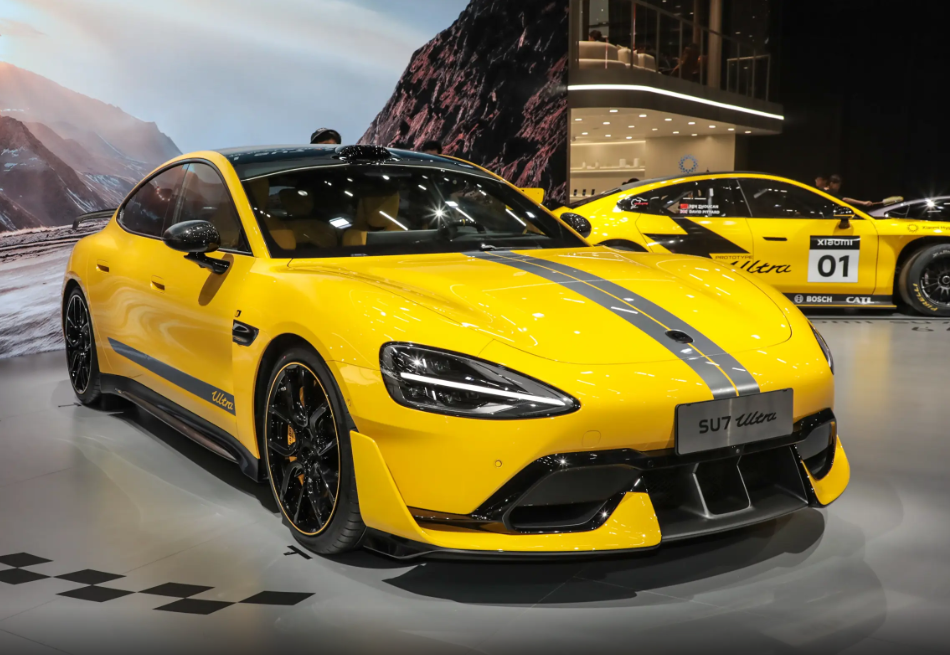su7: (52, 141, 841, 571), (549, 165, 950, 320)
